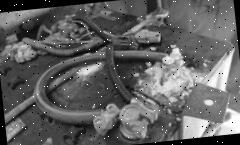electronic: (26, 29, 209, 145)
